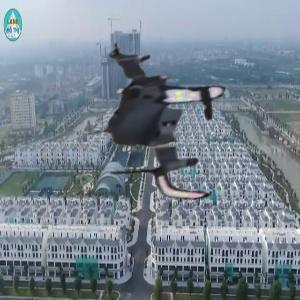drone: (76, 33, 253, 210)
